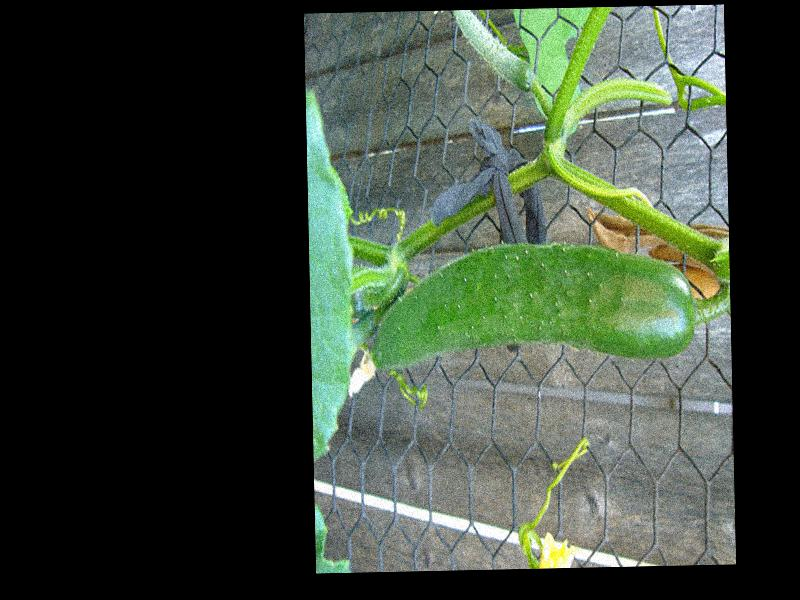Cucumber: (371, 237, 696, 371)
